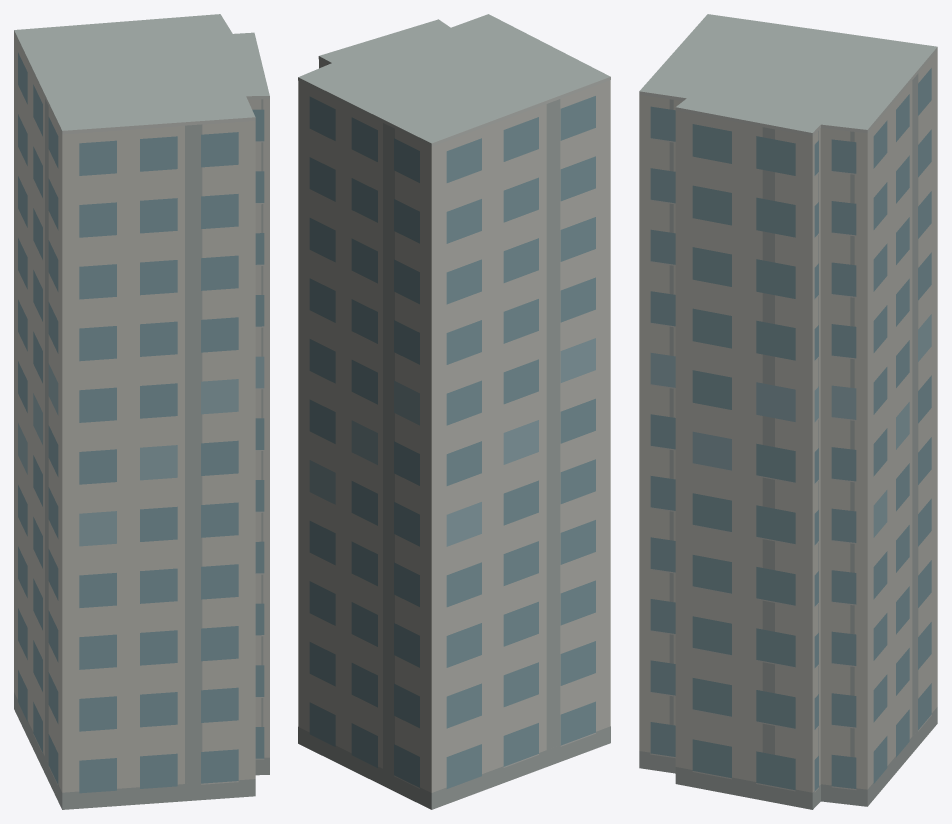
File: residential-272881a0-4ed1-4efd-a85a-e640a21f4ebb.glb
3 views of the same model, side by side, from view 1: azimuth 30°, elevation 25°; view 2: azimuth 150°, elevation 25°; view 3: azimuth 270°, elevation 25° (orthographic).
Parts seen in each view (by area): view 1: residential-272881a0-4ed1-4efd-a85a-e640a21f4ebb.tmp; view 2: residential-272881a0-4ed1-4efd-a85a-e640a21f4ebb.tmp; view 3: residential-272881a0-4ed1-4efd-a85a-e640a21f4ebb.tmp.
Boxes of the visible parts, left/top/right/bottom form: residential-272881a0-4ed1-4efd-a85a-e640a21f4ebb.tmp: left=14, top=14, right=269, bottom=809; residential-272881a0-4ed1-4efd-a85a-e640a21f4ebb.tmp: left=298, top=14, right=610, bottom=809; residential-272881a0-4ed1-4efd-a85a-e640a21f4ebb.tmp: left=639, top=14, right=937, bottom=809.
Bounding box in the file's own units: 18.12 × 48 × 19.19.
